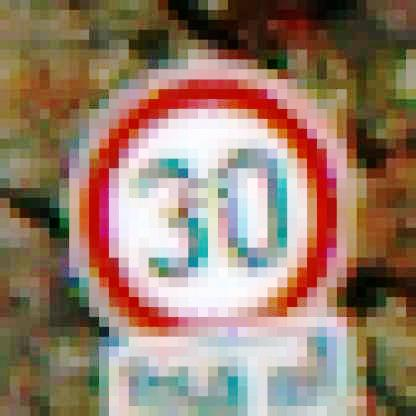Speed Limit -30-: (66, 57, 358, 369)
